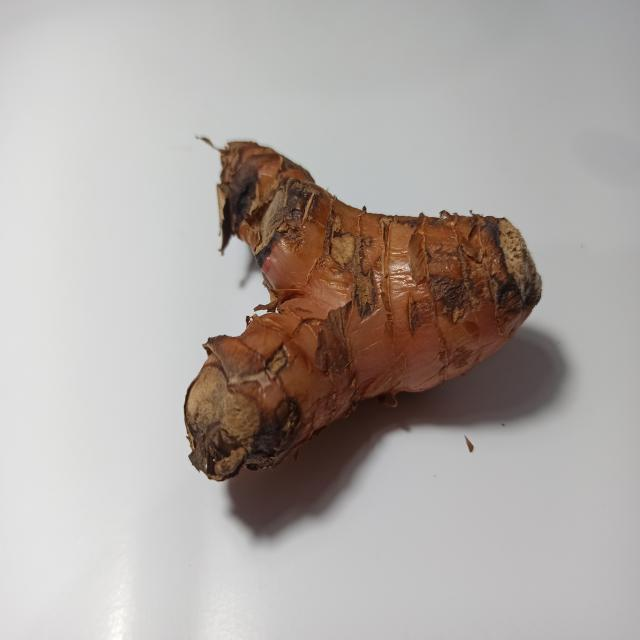ginger: (187, 126, 517, 454)
